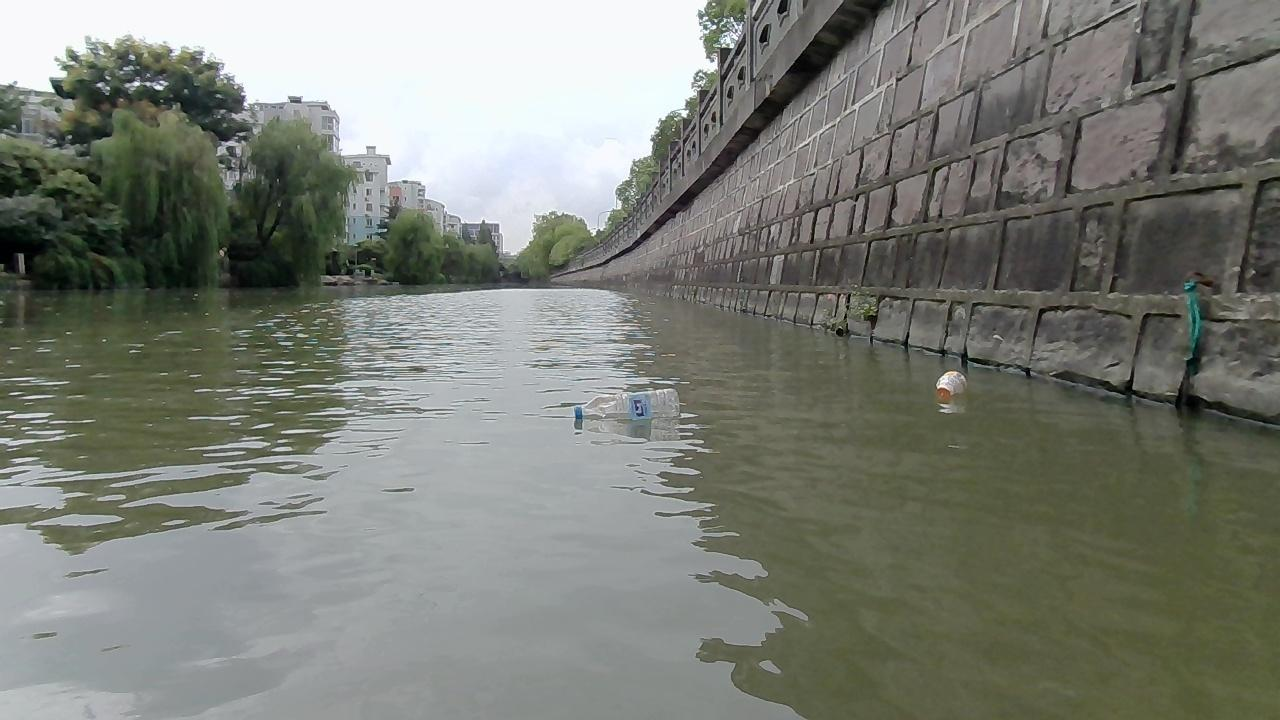bottle: (572, 386, 684, 418), (934, 369, 967, 398)
